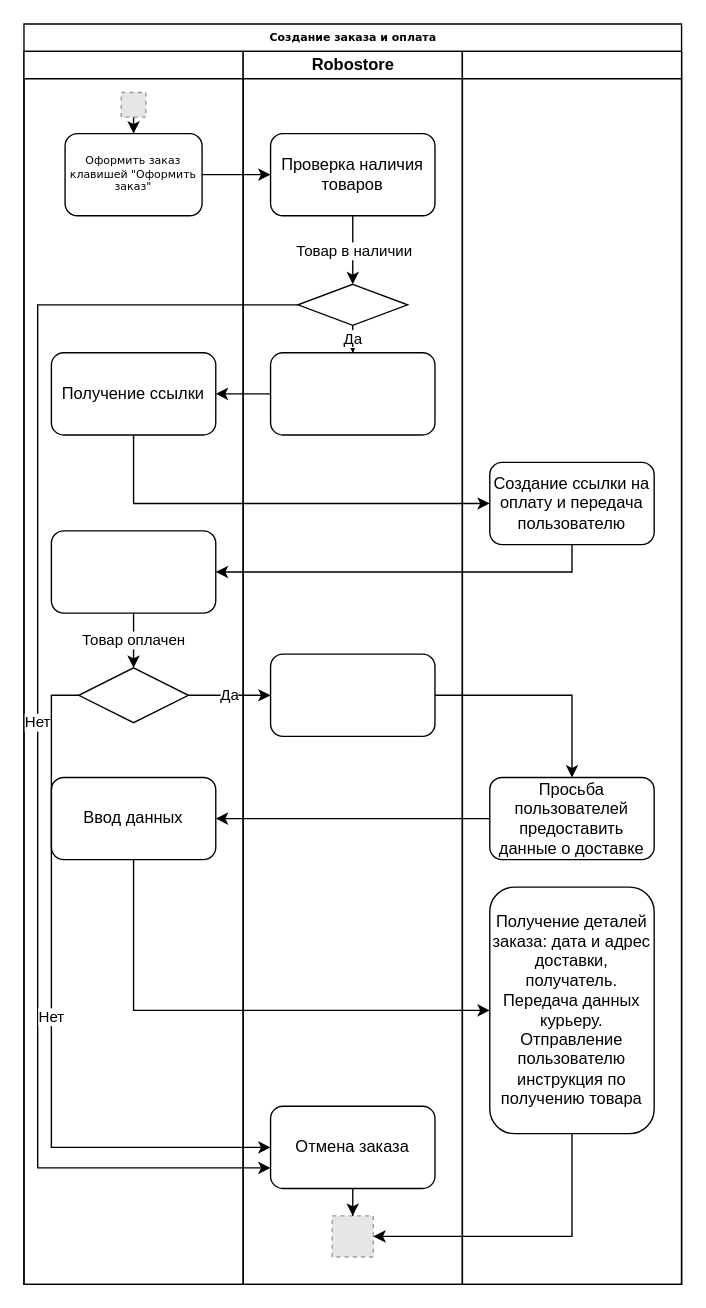
Some shapes in this 706 by 1308 pixel diagram are drawn without their labels. Grey dashed boxes stand in for pictures. Each missing label, with the box of its shape:
Telegram-bot: (461, 50, 682, 1284)
Клиент: (23, 50, 243, 1284)
Оплата товара: (50, 530, 216, 613)
Сохранение заказа, резервирование товара.: (269, 653, 435, 736)
Формирование ссылки на заказ: (269, 351, 435, 435)
